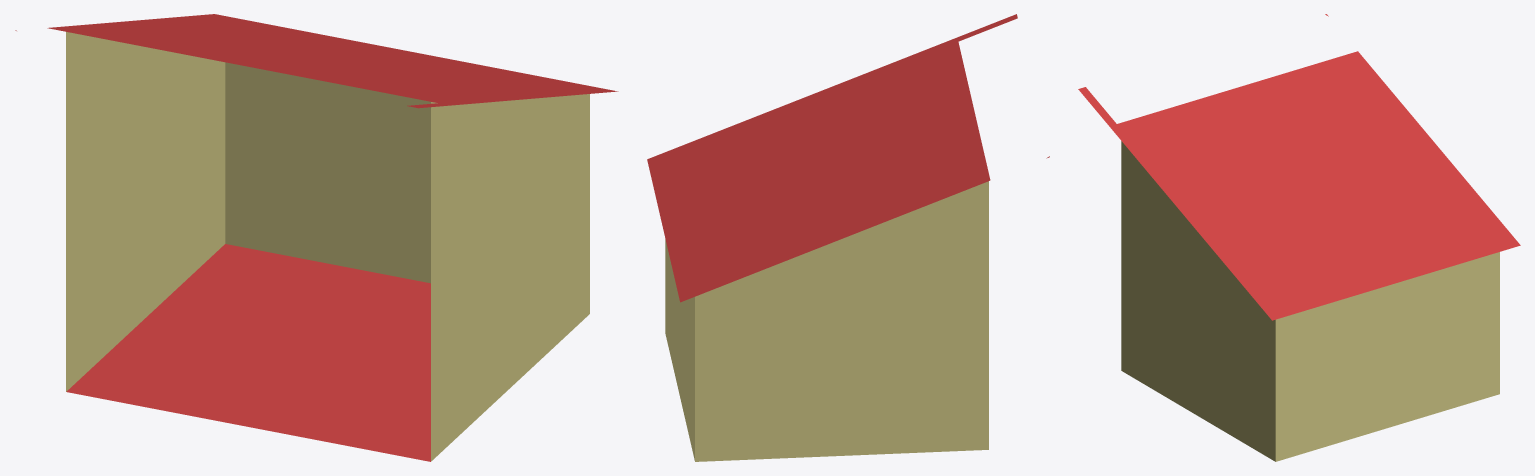
3 views of the same model, side by side, from view 1: azimuth 30°, elevation 25°; view 2: azimuth 150°, elevation 25°; view 3: azimuth 270°, elevation 25° (orthographic). The views are drawn at different scales.
Bounding box in the file's own units: 15.1 × 14.88 × 9.9.
